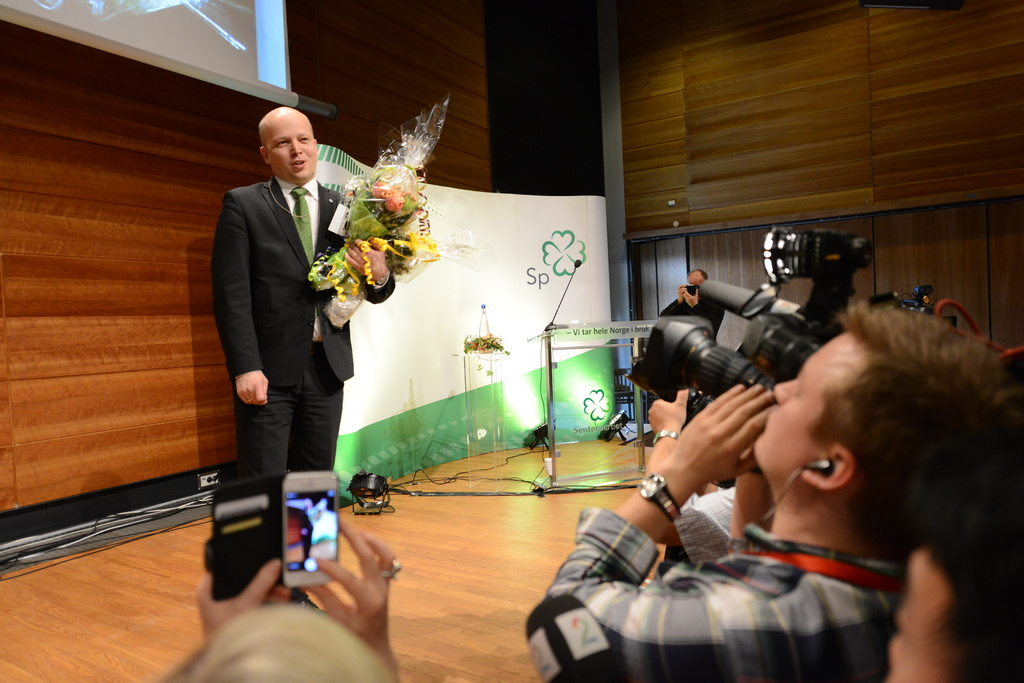Mobile-phone: (283, 471, 343, 588)
